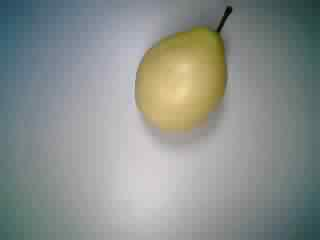pear: (128, 3, 240, 142)
